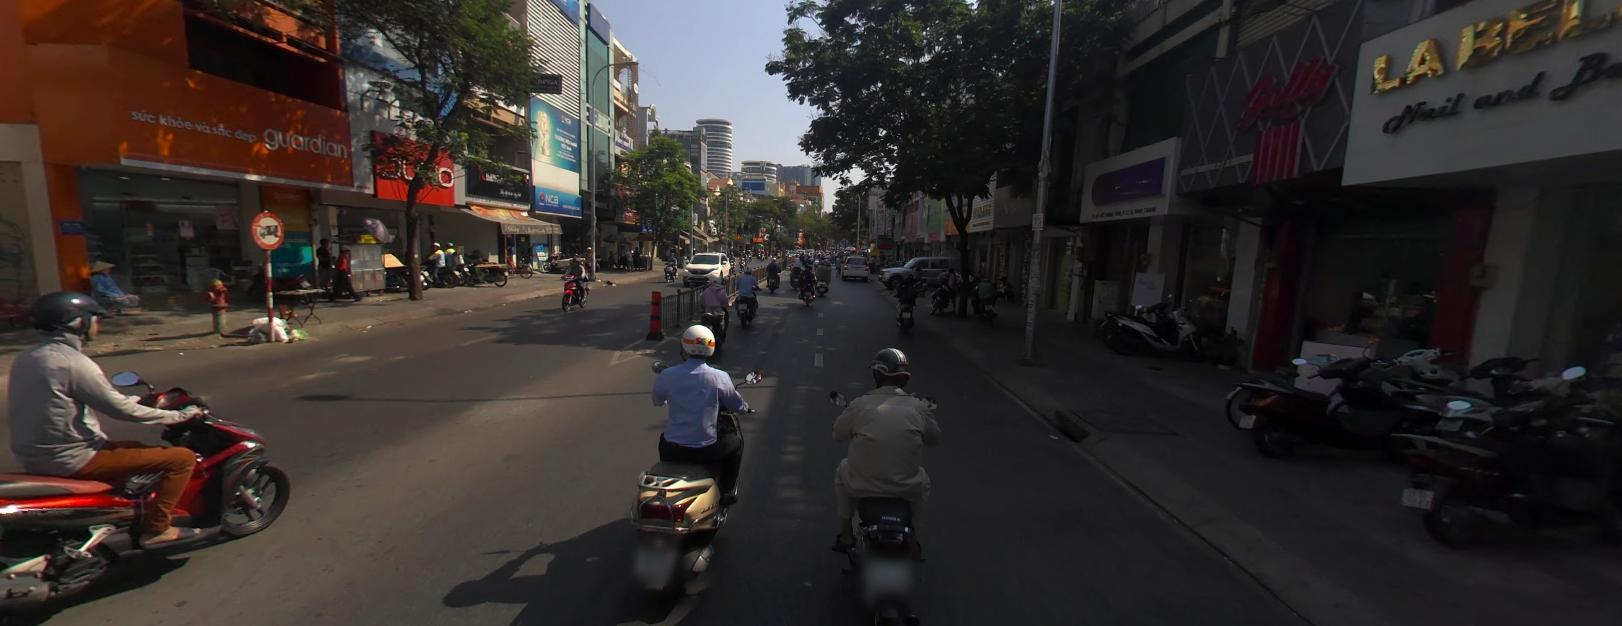Cam con lai: (249, 208, 284, 249)
Cam re: (861, 236, 867, 243)
